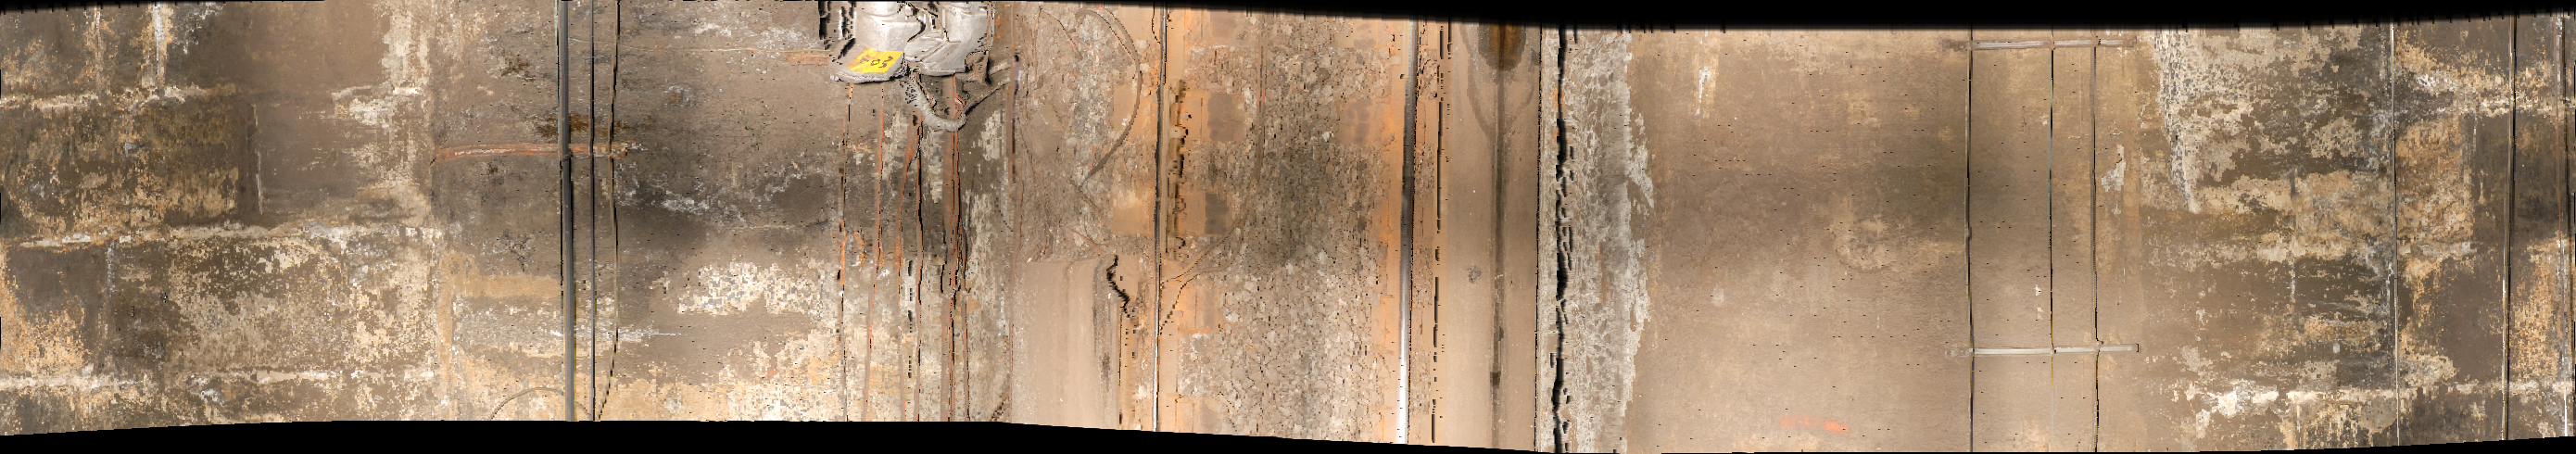pipes: (550, 8, 580, 454), (2385, 20, 2415, 452), (2504, 20, 2527, 454), (2086, 30, 2109, 452), (1963, 33, 1981, 454)
tracks: (996, 3, 1543, 454)
